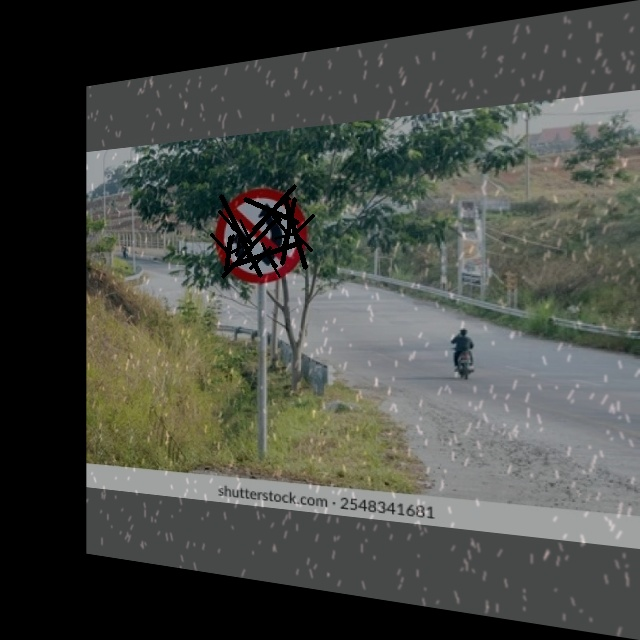Overtaking_Prohibited: (218, 183, 305, 283)
